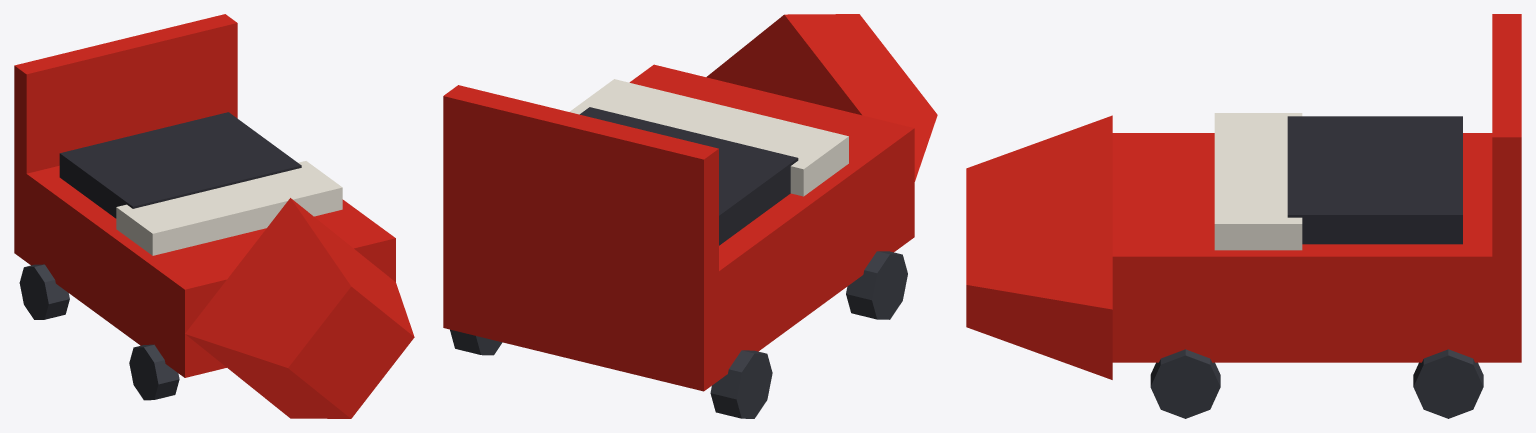
Rendered from coaster_car.glb.
3 renders of one model, left to right at view 1: azimuth 30°, elevation 25°; view 2: azimuth 150°, elevation 25°; view 3: azimuth 270°, elevation 25°, orthographic. The views are drawn at different scales.
Parts seen in each view (by area): view 1: coaster_car; view 2: coaster_car; view 3: coaster_car.
Boxes of the visible parts, x1,y1,x2,y2 form: coaster_car: (14, 14, 414, 418); coaster_car: (443, 14, 937, 418); coaster_car: (966, 14, 1521, 418).
Size of the model in its own units: 1.1 by 1.15 by 1.9.
